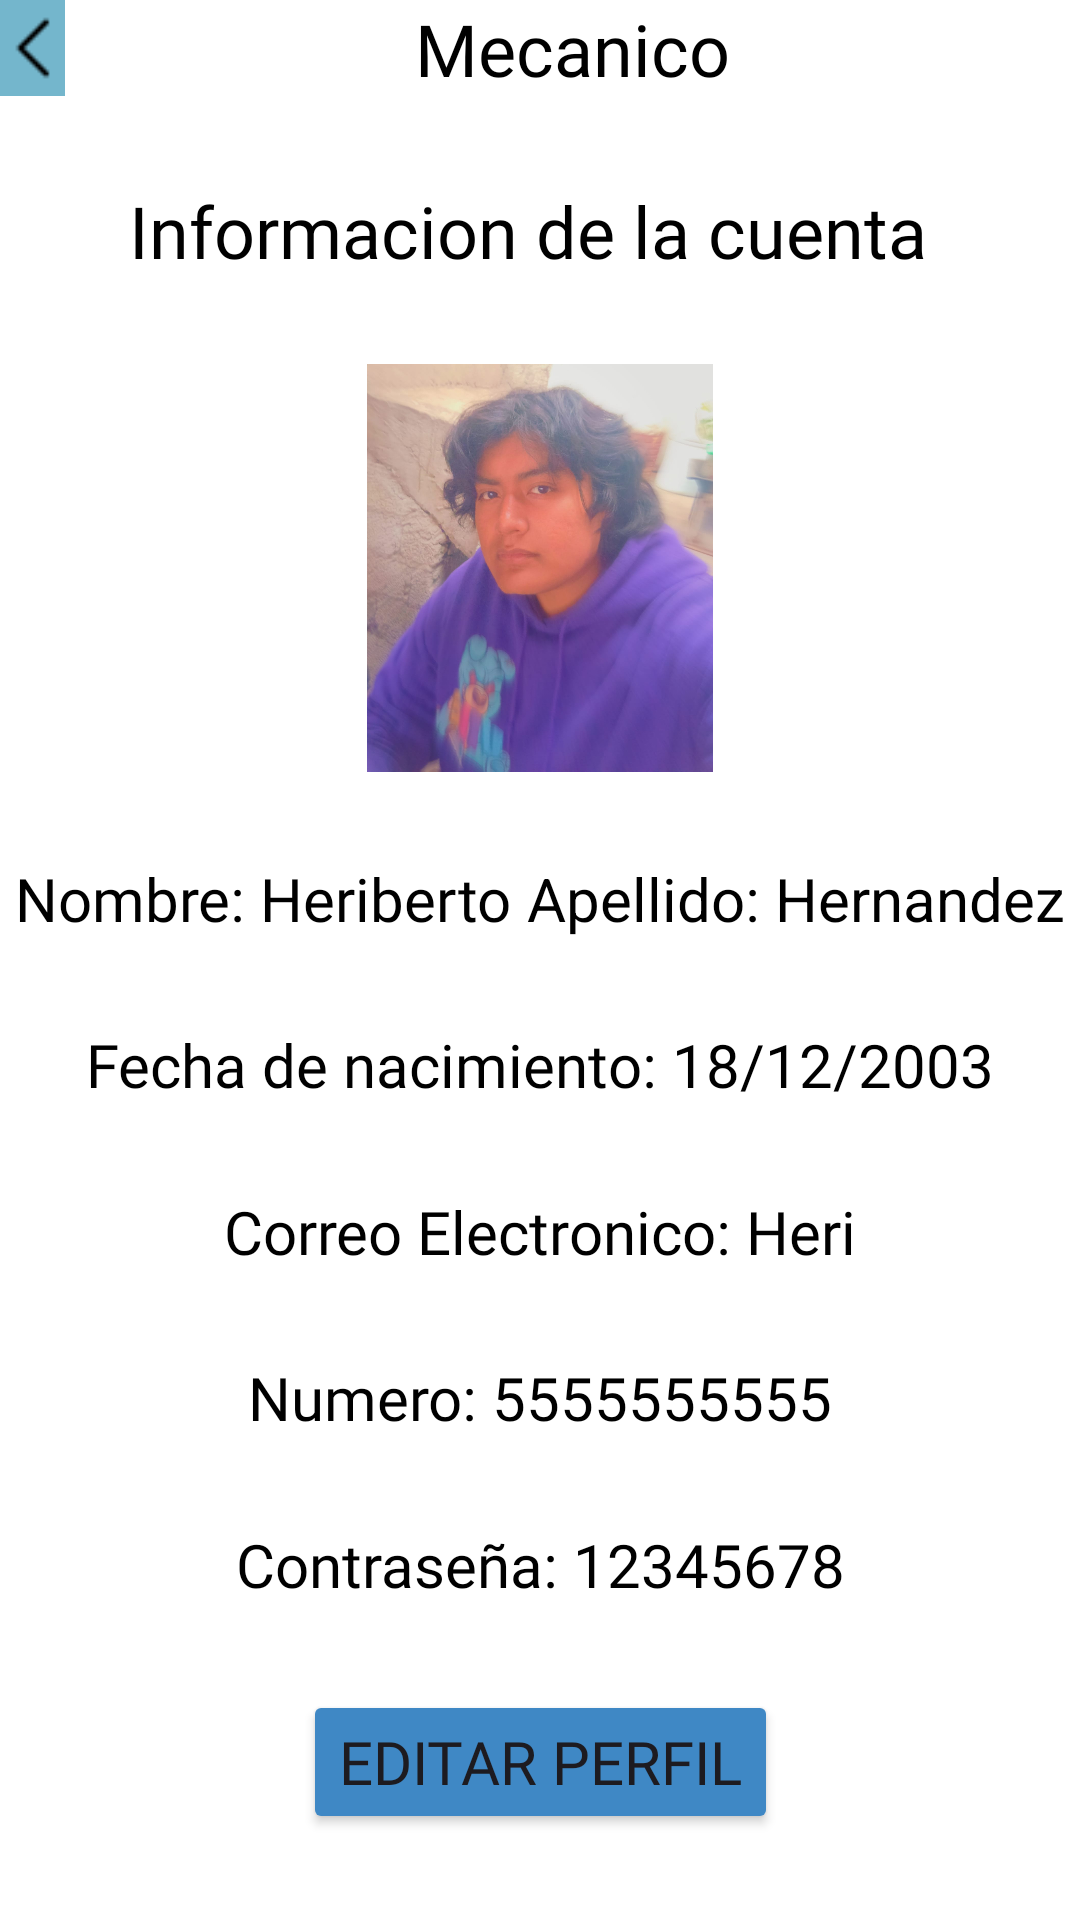

Icons on this 1080px x 1920px Android screen, each with its box as rect(x1, y1, x2, y2):
flecha: rect(0, 0, 65, 96)
